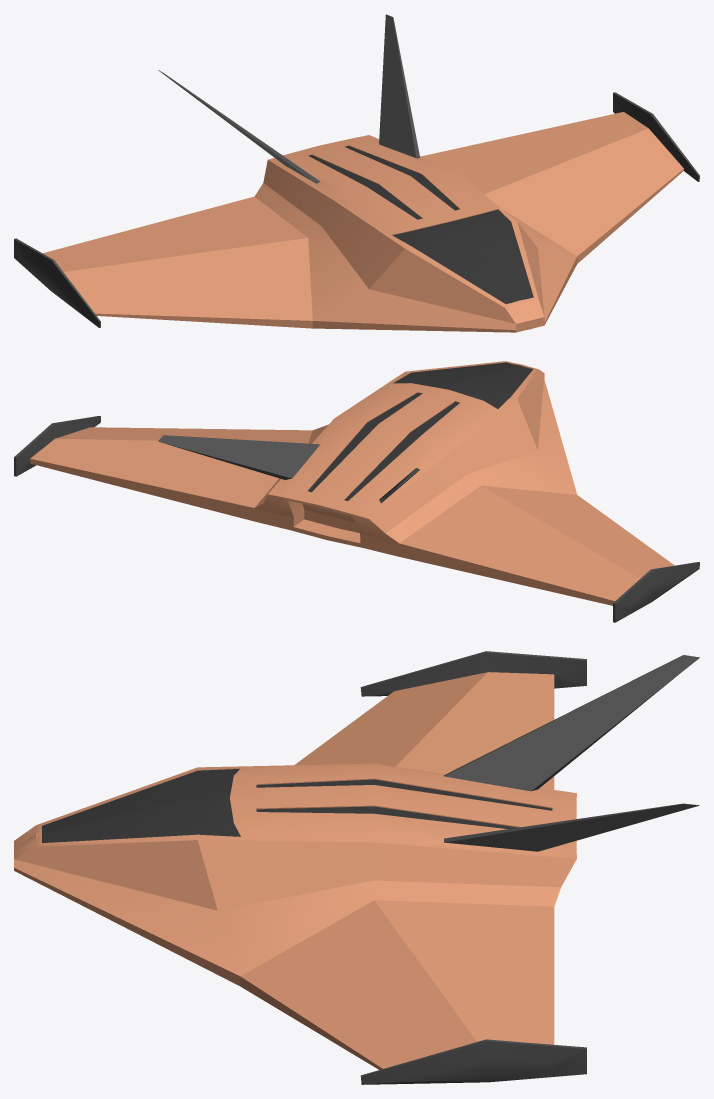
File: ship_27.fbx
The picture shows the model from 3 angles, top to bottom: view 1: azimuth 30°, elevation 25°; view 2: azimuth 150°, elevation 25°; view 3: azimuth 270°, elevation 25°; orthographic projection. The views are drawn at different scales.
Visible parts, largest first — view 1: ship_27; view 2: ship_27; view 3: ship_27.
Part boxes in pixels (x1,y1,x2,y2): ship_27: (14,14,699,332); ship_27: (14,361,699,622); ship_27: (14,651,699,1084).
Bounding box in the file's own units: 1398 × 296 × 1035.
